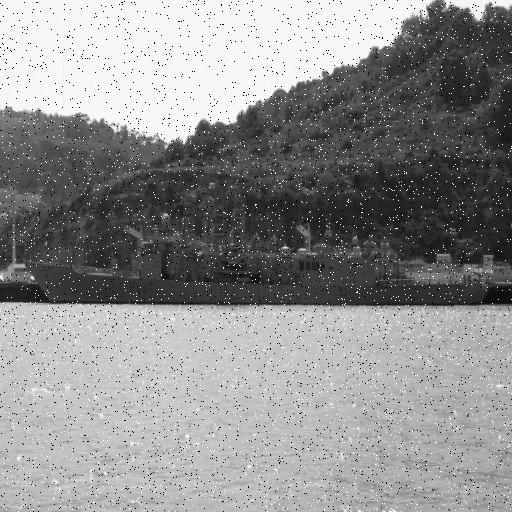Fragata: (19, 151, 493, 311)
